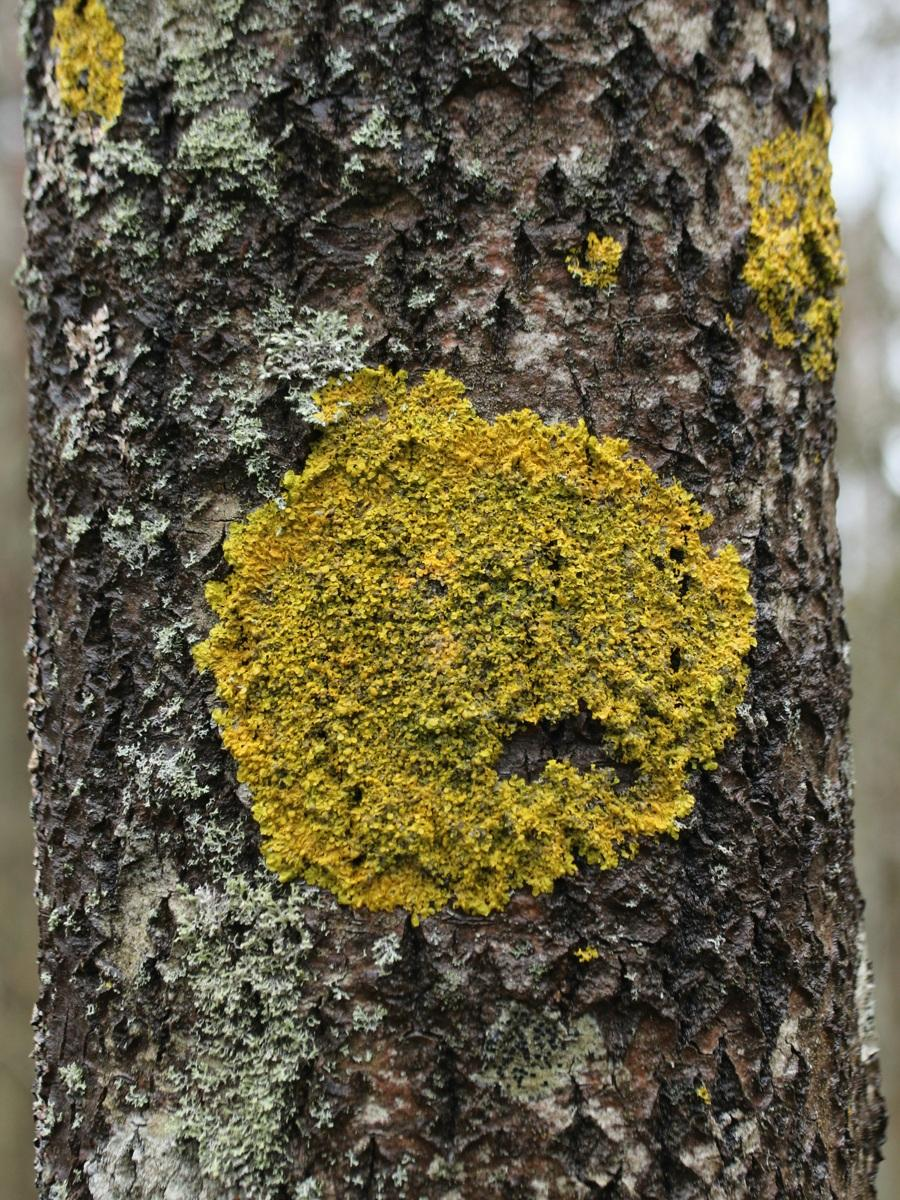lichen: (195, 368, 754, 917), (742, 93, 845, 380), (51, 0, 123, 126)
